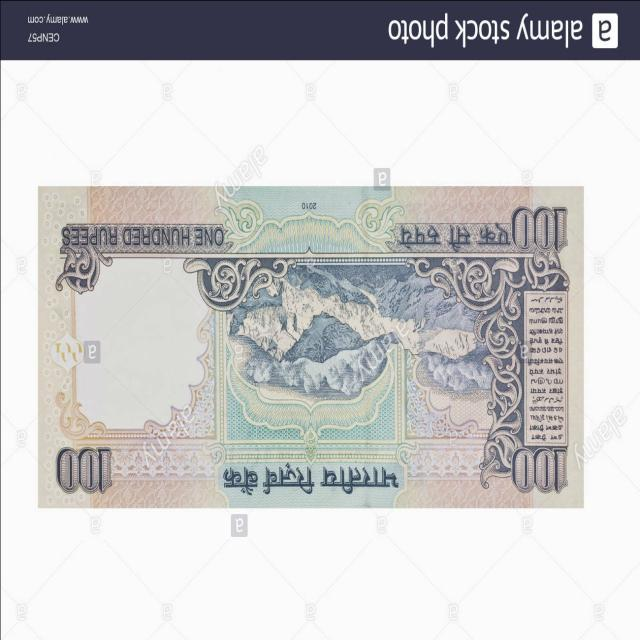100IndianRupees: (36, 184, 580, 507)
